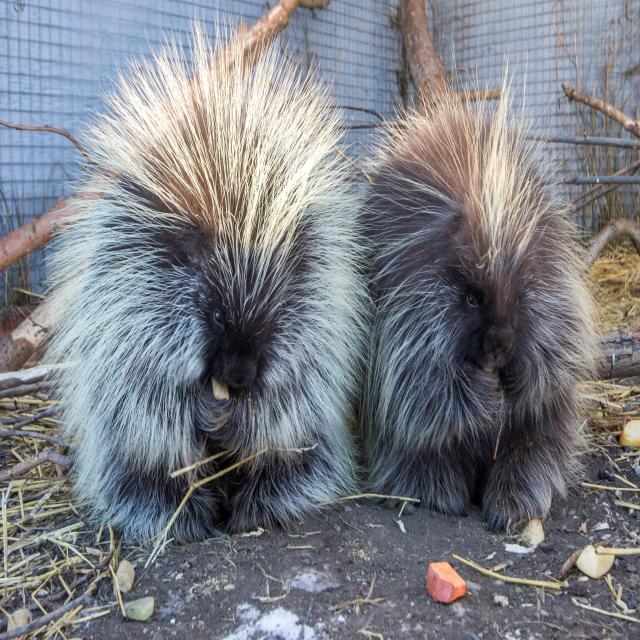Porcupine: (366, 89, 584, 530)
